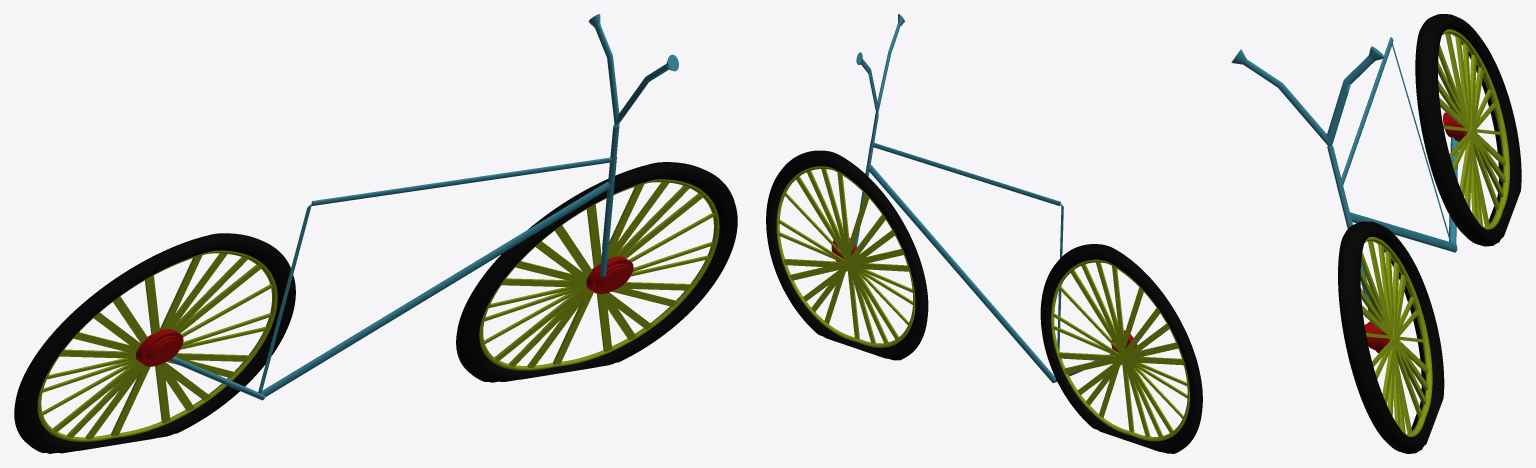
File: Bike.FBX
3 views of the same model, side by side, from view 1: azimuth 30°, elevation 25°; view 2: azimuth 150°, elevation 25°; view 3: azimuth 270°, elevation 25° (orthographic). The views are drawn at different scales.
Visible parts, largest first — view 1: Cylinder007; view 2: Cylinder007; view 3: Cylinder007.
Boxes of the visible parts, x1,y1,x2,y2 form: Cylinder007: [14, 14, 737, 453]; Cylinder007: [766, 14, 1202, 453]; Cylinder007: [1231, 14, 1521, 453].
Bounding box in the file's own units: 336 × 184 × 124.
